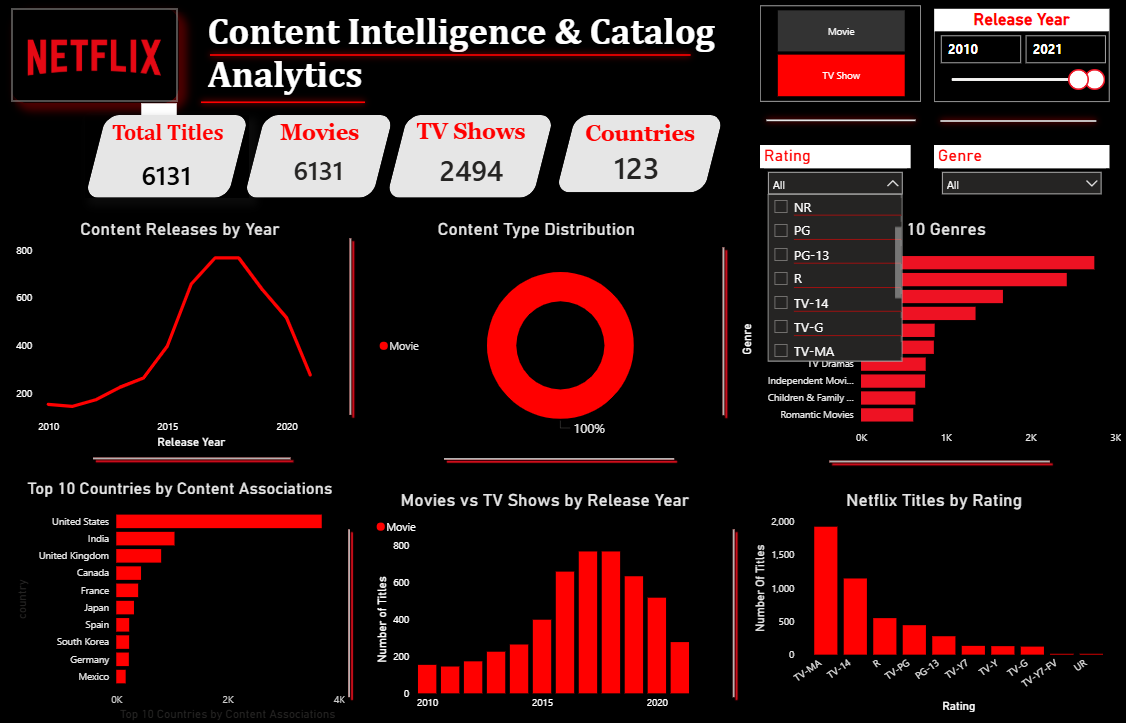

The dashboard page shown, as its layout file describes it:
{"tool":"powerbi","page":{"name":"Page 2","canvas":[1400,900],"ordinal":1},"visuals":[{"type":"donutChart","title":"Content Type Distribution","fields":{"Category":[" Netflix.type"],"Y":["CountNonNull( Netflix.show_id)"]},"box":[464,272,400,288],"z":0},{"type":"lineChart","title":"Content Releases by Year ","fields":{"Category":[" Netflix.release_year"],"Y":["CountNonNull( Netflix.show_id)"]},"box":[16,272,416,288],"z":1000},{"type":"clusteredBarChart","title":"Top 10 Countries by Content Associations","fields":{"Y":["CountNonNull(Country.country)"],"Category":["Country.country"]},"box":[16,592,416,304],"z":2000},{"type":"clusteredColumnChart","title":"Netflix Titles by Rating","fields":{"Category":[" Netflix.rating"],"Y":["CountNonNull( Netflix.show_id)"]},"box":[928.1,607,456.1,278.9],"z":3000},{"type":"columnChart","title":"Movies vs TV Shows by Release Year","fields":{"Category":[" Netflix.release_year"],"Y":["CountNonNull( Netflix.show_id)"],"Series":[" Netflix.type"]},"box":[461.4,607,428.1,280.7],"z":4000},{"type":"clusteredBarChart","title":"Top 10 Genres","fields":{"Category":["Genre.Genre"],"Y":["CountNonNull(Genre.Genre)"]},"box":[912,272,480,288],"z":5000},{"type":"image","box":[17.1,12.9,205.7,115.7],"z":6000},{"type":"textbox","title":"Content Intelligence & Catalog Analytics","box":[253.7,13,661.1,113],"z":7000},{"type":"shape","box":[106.7,144.4,202.2,102.2],"z":8000},{"type":"cardVisual","fields":{"Data":[" Netflix.Total Titles"]},"box":[153.3,195.6,108.9,40],"z":9000},{"type":"shape","box":[304.4,144.4,184.4,102.2],"z":10000},{"type":"shape","box":[480,144.4,206.7,102.2],"z":11000},{"type":"shape","box":[688.9,144.4,206.7,95.6],"z":12000},{"type":"cardVisual","fields":{"Data":[" Netflix.Movies"]},"box":[331.1,186.7,128.9,48.9],"z":13000},{"type":"cardVisual","fields":{"Data":[" Netflix.TV Shows"]},"box":[526.7,188.9,117.8,44.4],"z":14000},{"type":"cardVisual","fields":{"Data":[" Netflix.Total Country"]},"box":[730,185,118.3,45],"z":15000},{"type":"slicer","title":"Release Year","fields":{"Values":[" Netflix.release_year"]},"box":[1155.4,13.8,216.9,115.4],"z":16000},{"type":"slicer","title":"Rating","fields":{"Values":[" Netflix.rating"]},"box":[940,181.5,186.2,73.8],"z":17000},{"type":"slicer","title":"Genre","fields":{"Values":["Genre.Genre"]},"box":[1155.4,181.5,216.9,64.6],"z":18000},{"type":"shape","box":[253.7,55.6,609.3,29.6],"z":19000},{"type":"shape","box":[940,135,200,31.7],"z":20000},{"type":"shape","box":[1155,135,208.3,33.3],"z":21000},{"type":"shape","box":[242.6,113,218.5,31.5],"z":22000},{"type":"shape","box":[112,544,256,48],"z":23000},{"type":"shape","box":[415.8,291.2,36.8,229.8],"z":24000},{"type":"shape","box":[884.2,301.8,24.6,219.3],"z":25000},{"type":"shape","box":[421.1,650.9,26.3,219.3],"z":26000},{"type":"shape","box":[889.5,650.9,38.6,219.3],"z":27000},{"type":"shape","box":[543.9,542.1,296.5,52.6],"z":28000},{"type":"shape","box":[1021.1,556.1,284.2,33.3],"z":29000},{"type":"slicer","fields":{"Values":[" Netflix.type"]},"box":[940,10,198.3,118.3],"z":30000}]}

Visuals, with their boxes in screenshot pixels (x1, y1, x2, y2), scaled from the page's 1400x900 canvas onto the 1126x723 screenshot:
"Content Type Distribution" donutChart: bbox=(373, 219, 695, 450)
"Content Releases by Year " lineChart: bbox=(13, 219, 347, 450)
"Top 10 Countries by Content Associations" clusteredBarChart: bbox=(13, 476, 347, 720)
"Netflix Titles by Rating" clusteredColumnChart: bbox=(746, 488, 1113, 712)
"Movies vs TV Shows by Release Year" columnChart: bbox=(371, 488, 715, 713)
"Top 10 Genres" clusteredBarChart: bbox=(734, 219, 1120, 450)
image: bbox=(14, 10, 179, 103)
"Content Intelligence & Catalog Analytics" textbox: bbox=(204, 10, 736, 101)
shape: bbox=(86, 116, 248, 198)
cardVisual -  Netflix.Total Titles: bbox=(123, 157, 211, 189)
shape: bbox=(245, 116, 393, 198)
shape: bbox=(386, 116, 552, 198)
shape: bbox=(554, 116, 720, 193)
cardVisual -  Netflix.Movies: bbox=(266, 150, 370, 189)
cardVisual -  Netflix.TV Shows: bbox=(424, 152, 518, 187)
cardVisual -  Netflix.Total Country: bbox=(587, 149, 682, 185)
"Release Year" slicer: bbox=(929, 11, 1104, 104)
"Rating" slicer: bbox=(756, 146, 906, 205)
"Genre" slicer: bbox=(929, 146, 1104, 198)
shape: bbox=(204, 45, 694, 68)
shape: bbox=(756, 108, 917, 134)
shape: bbox=(929, 108, 1096, 135)
shape: bbox=(195, 91, 371, 116)
shape: bbox=(90, 437, 296, 476)
shape: bbox=(334, 234, 364, 419)
shape: bbox=(711, 242, 731, 419)
shape: bbox=(339, 523, 360, 699)
shape: bbox=(715, 523, 746, 699)
shape: bbox=(437, 435, 676, 478)
shape: bbox=(821, 447, 1050, 473)
slicer -  Netflix.type: bbox=(756, 8, 916, 103)
